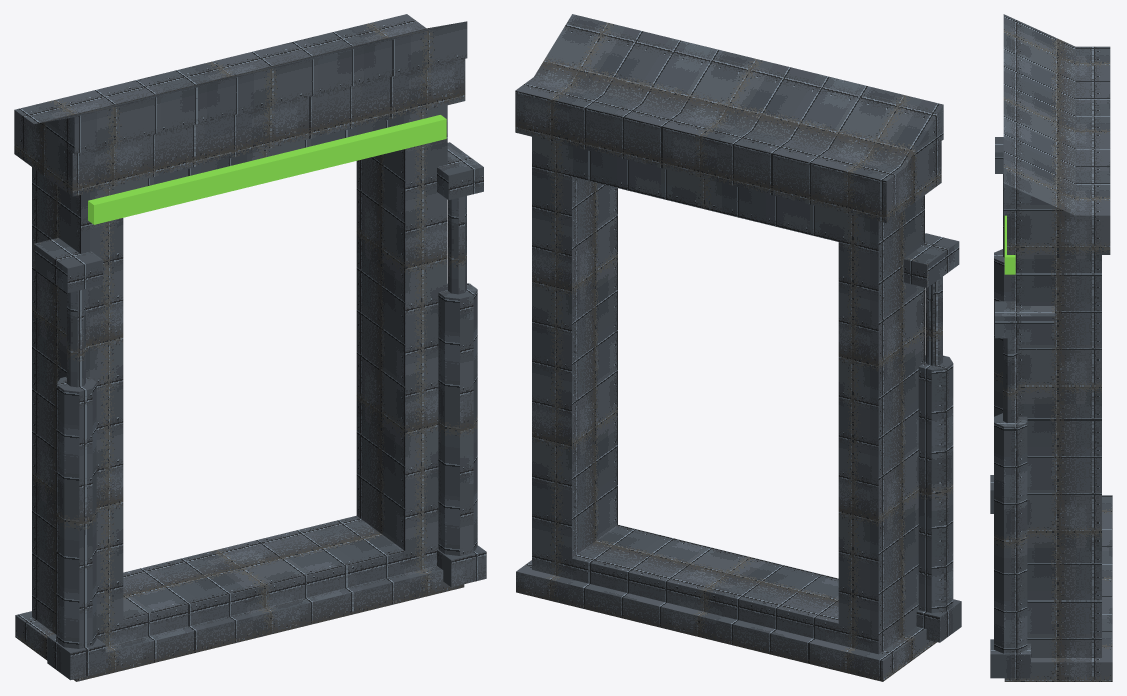
File: portal_a_blast.glb
3 views of the same model, side by side, from view 1: azimuth 30°, elevation 25°; view 2: azimuth 150°, elevation 25°; view 3: azimuth 270°, elevation 25° (orthographic). The views are drawn at different scales.
Parts seen in each view (by area): view 1: portal_a_blast; view 2: portal_a_blast; view 3: portal_a_blast.
Boxes of the visible parts, <box> form: portal_a_blast: <box>14,14,486,681</box>; portal_a_blast: <box>515,14,961,681</box>; portal_a_blast: <box>990,14,1112,681</box>.
Size of the model in its own units: 3.54 by 4.6 by 1.02.
Materials: 2 (1 with a texture image).
